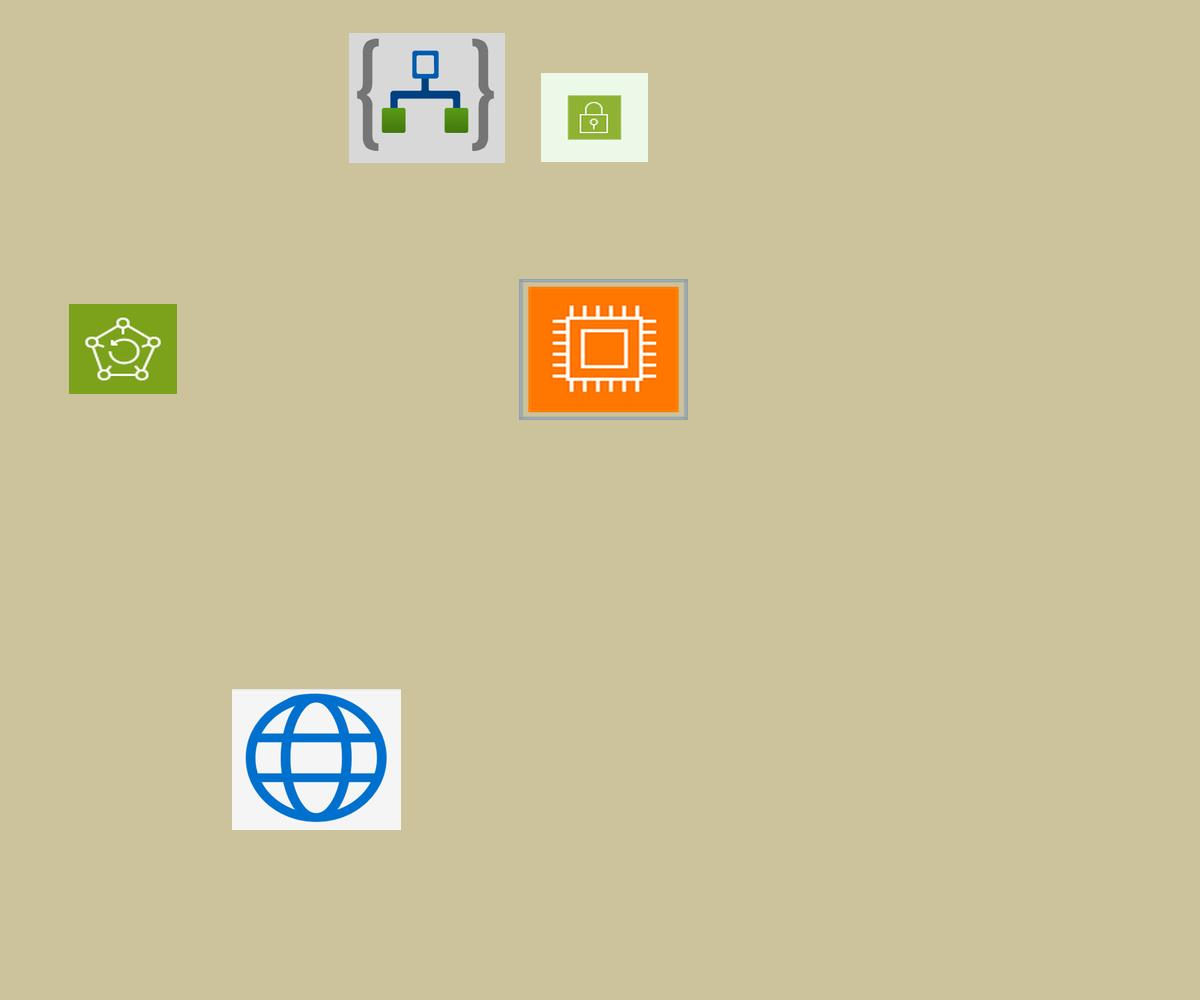AWS-Backup: (69, 304, 177, 394)
AWS-Category_Compute: (519, 279, 688, 420)
AWS-Public-subnet: (541, 73, 648, 162)
Azure_http: (232, 689, 401, 830)
Azure_integration-204-Logic-Apps: (349, 33, 505, 163)
